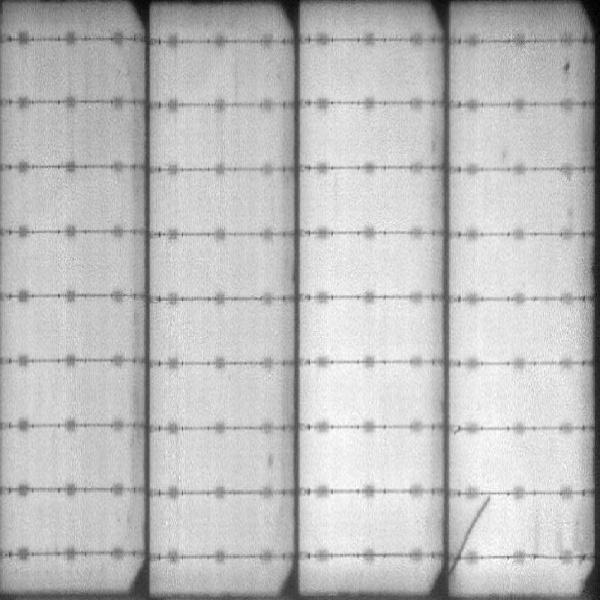scratch: (450, 496, 492, 576)
